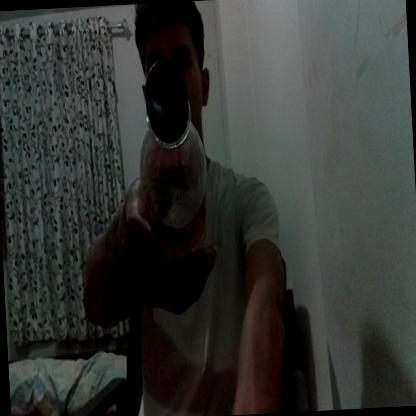plastic_bottles: (132, 61, 208, 254)
